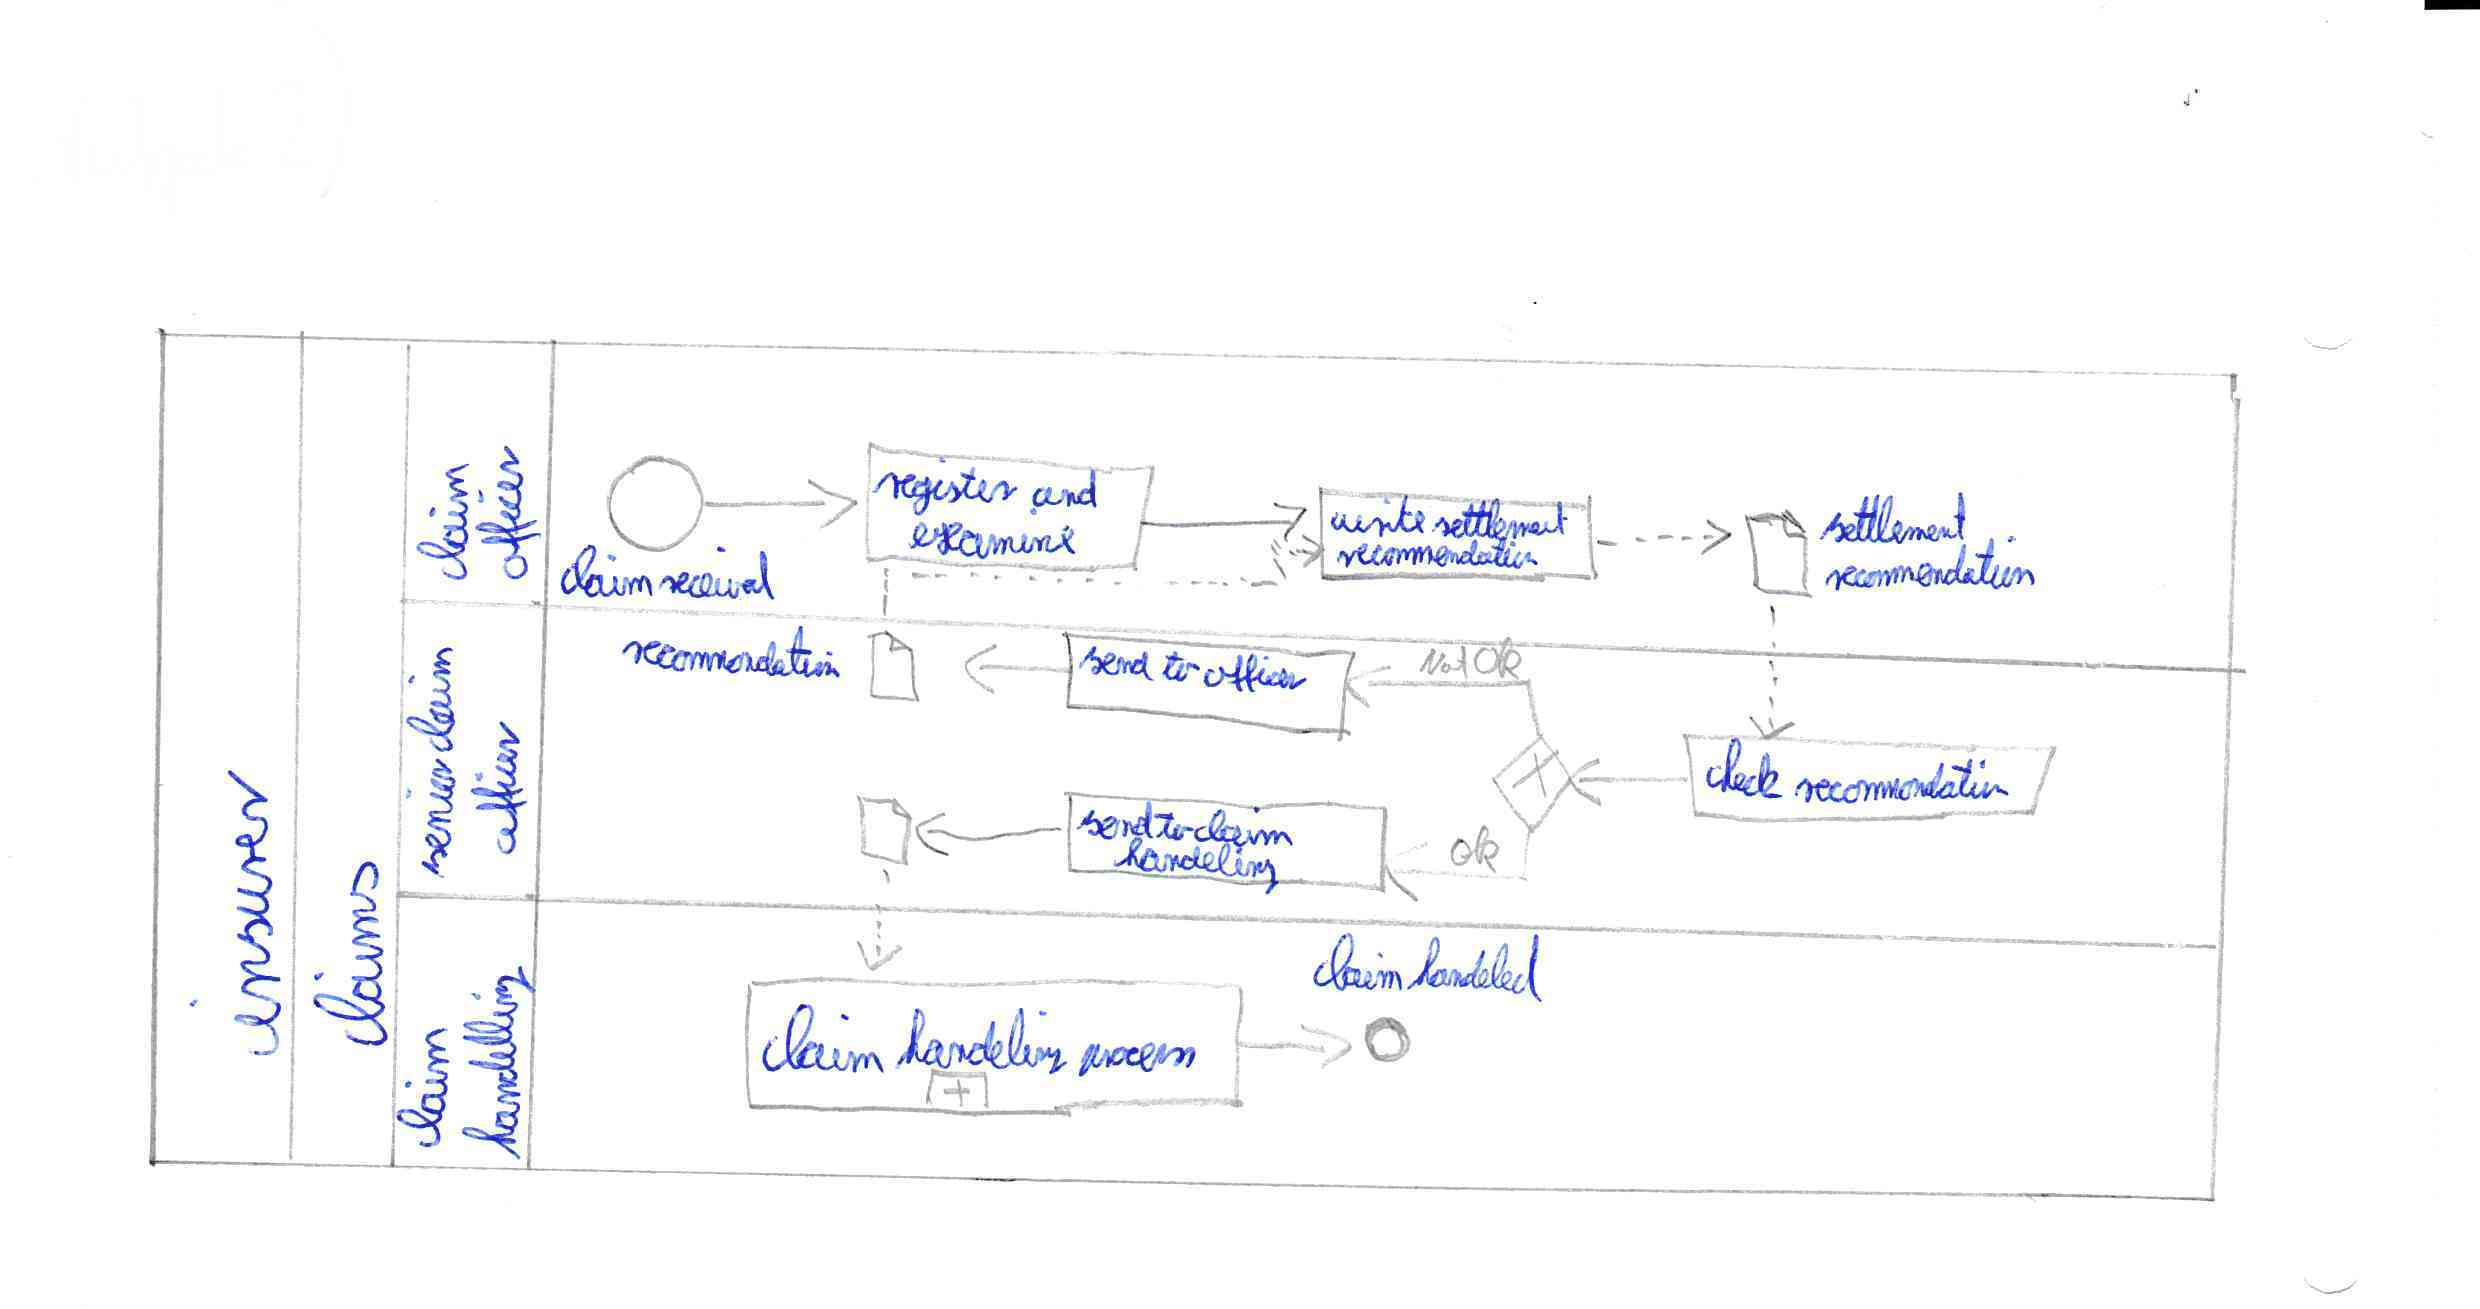Not: (1412, 640, 1475, 686)
Ok: (1468, 632, 1529, 687)
and: (1027, 463, 1106, 515)
check: (1699, 732, 1788, 807)
claim: (756, 997, 892, 1081), (389, 1020, 459, 1155), (410, 458, 476, 591), (1306, 927, 1409, 1001), (399, 640, 459, 759), (553, 540, 659, 605), (1188, 800, 1297, 855)
claims: (302, 850, 390, 1058)
examine: (902, 502, 1086, 566)
handeled: (1402, 928, 1550, 1009)
handeling: (889, 1002, 1074, 1083), (1109, 833, 1283, 901)
handelling: (456, 960, 541, 1166)
insurer: (180, 759, 290, 1070)
officer: (467, 436, 548, 586), (463, 714, 533, 861), (1197, 650, 1314, 700)
ok: (1443, 822, 1507, 879)
process: (1071, 1033, 1206, 1083)
received: (651, 540, 782, 607)
recommendation: (1817, 531, 2042, 600), (613, 622, 848, 686), (1786, 751, 2014, 810), (1330, 531, 1543, 574)
register: (864, 449, 1027, 525)
send: (1073, 794, 1158, 846), (1073, 641, 1160, 687)
senior: (412, 750, 463, 887)
settlement: (1812, 486, 1975, 551), (1427, 494, 1576, 548)
to: (1156, 646, 1206, 691), (1148, 805, 1197, 845)
write: (1325, 487, 1430, 541)
